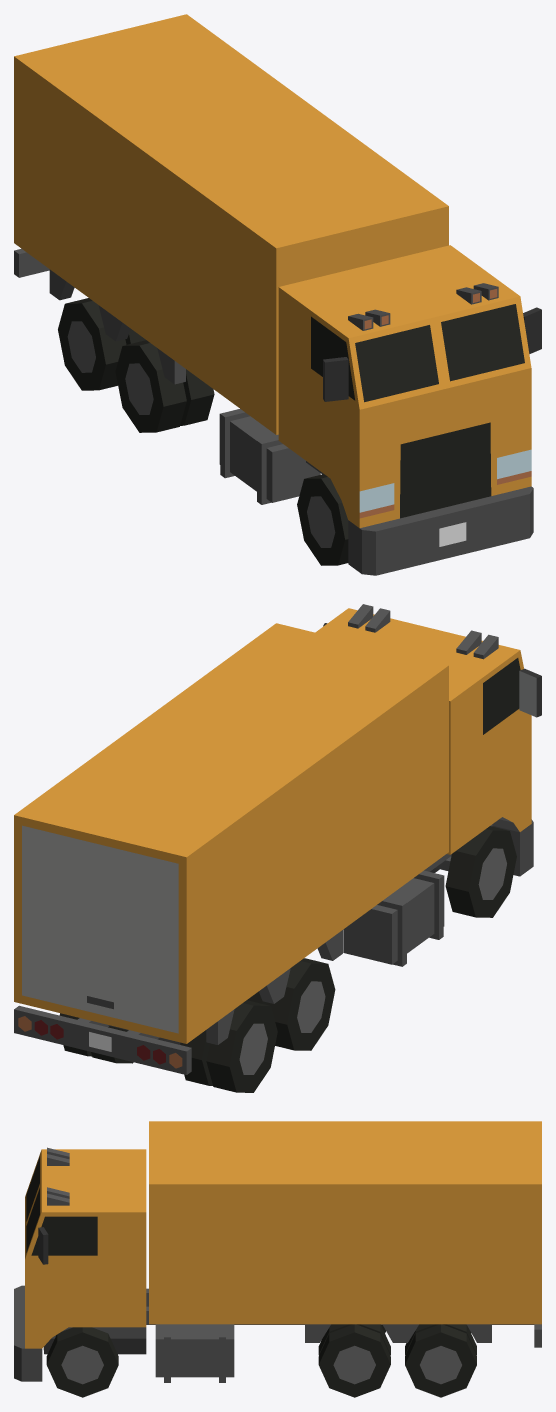
The model's file is Veh_Truck_03_Yellow.obj.
The picture shows the model from 3 angles, top to bottom: view 1: azimuth 30°, elevation 25°; view 2: azimuth 150°, elevation 25°; view 3: azimuth 270°, elevation 25°; orthographic projection. The views are drawn at different scales.
Bounding box in the file's own units: 1.68 × 2.11 × 4.74.
